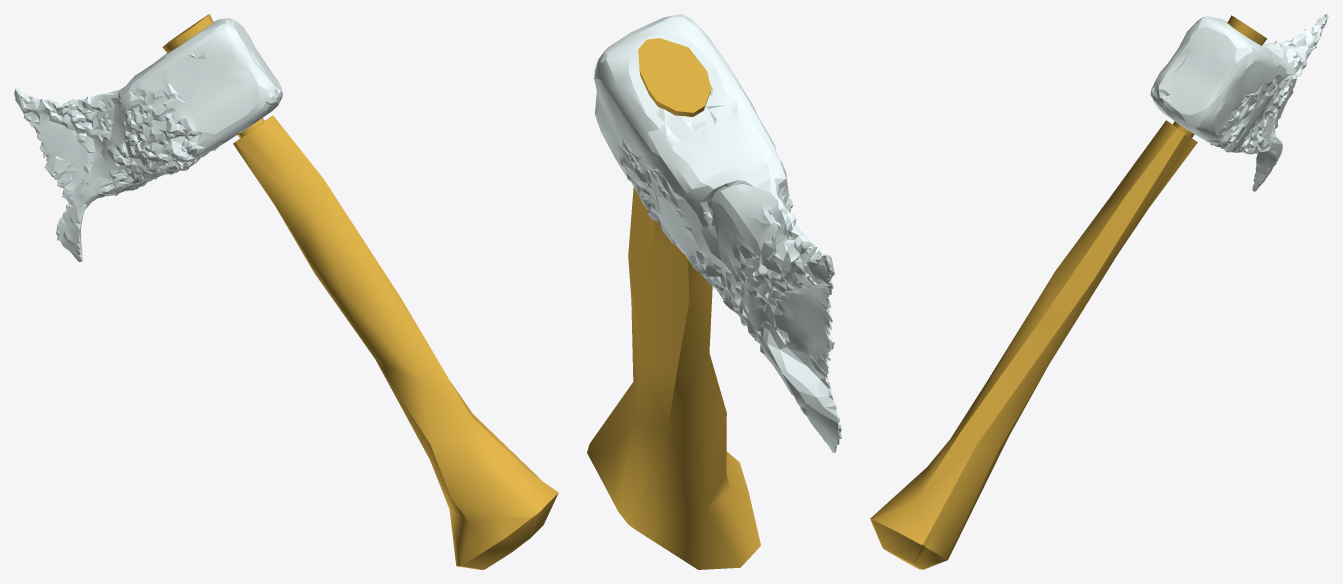
Rendered from axe-iron-32.glb.
3 renders of one model, left to right at view 1: azimuth 30°, elevation 25°; view 2: azimuth 150°, elevation 25°; view 3: azimuth 270°, elevation 25°, orthographic. The views are drawn at different scales.
Parts seen in each view (by area): view 1: iron-axe, iron-axe-head; view 2: iron-axe-head, iron-axe; view 3: iron-axe, iron-axe-head.
Boxes of the visible parts, left/top/right/bottom form: iron-axe: left=162, top=14, right=558, bottom=569; iron-axe-head: left=14, top=18, right=282, bottom=261; iron-axe-head: left=594, top=14, right=841, bottom=452; iron-axe: left=587, top=38, right=760, bottom=569; iron-axe: left=870, top=15, right=1266, bottom=569; iron-axe-head: left=1150, top=14, right=1328, bottom=191.
Size of the model in its own units: 0.6595 by 0.8647 by 0.7336.
